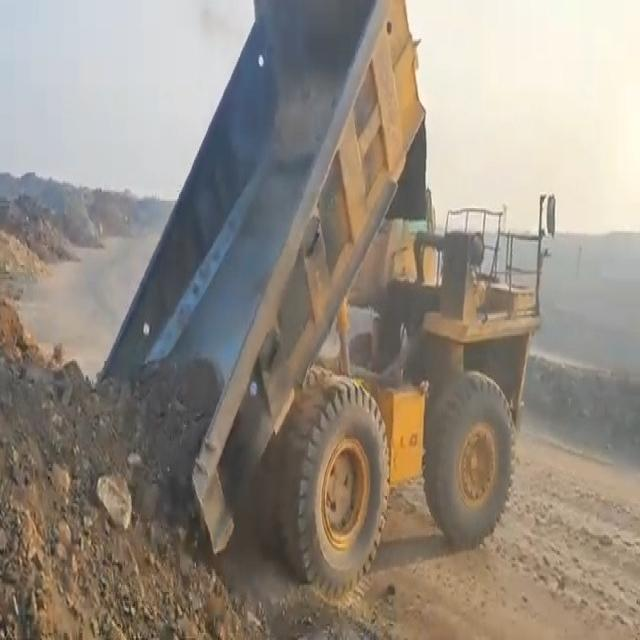dump_truck: (142, 1, 546, 572)
